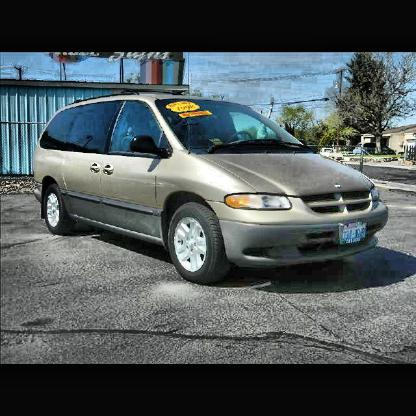Dodge Caravan Minivan 1997: (34, 92, 387, 284)
